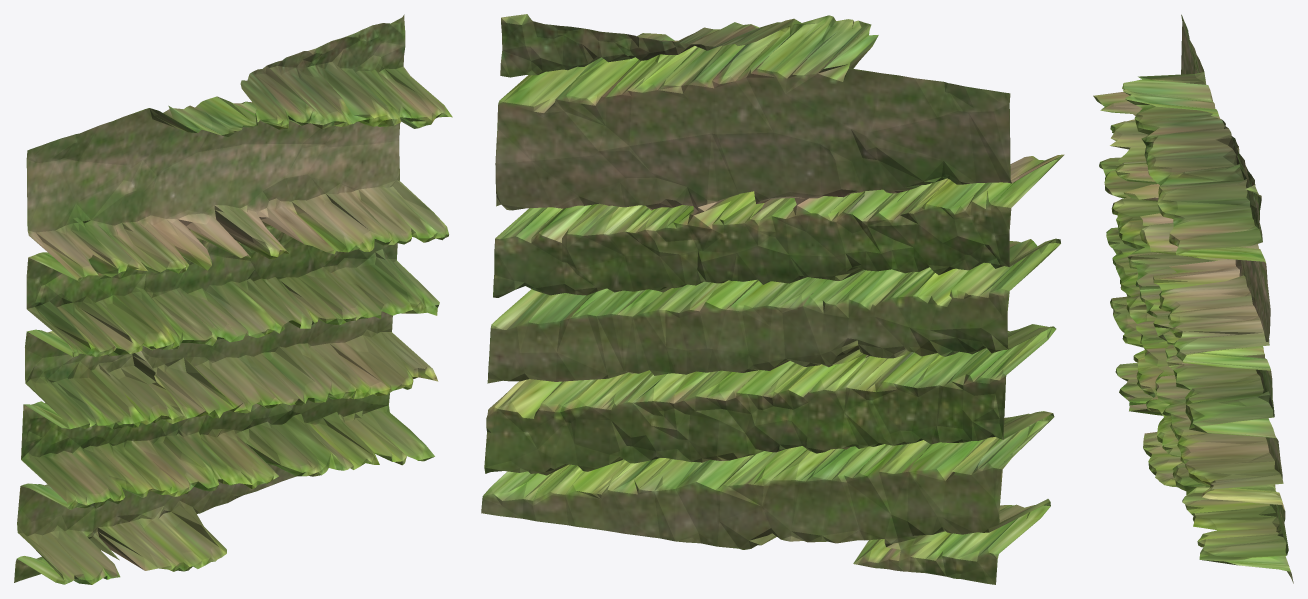
File: map_190_0.obj
The picture shows the model from 3 angles, left to right: view 1: azimuth 30°, elevation 25°; view 2: azimuth 150°, elevation 25°; view 3: azimuth 270°, elevation 25°; orthographic projection. The views are drawn at different scales.
Visible parts, largest first — view 1: grp1; view 2: grp1; view 3: grp1.
Part boxes in pixels (x1=…): grp1: x1=14, y1=14, x2=452, y2=584; grp1: x1=481, y1=14, x2=1064, y2=584; grp1: x1=1093, y1=14, x2=1293, y2=583.
Size of the model in its own units: 10 by 10 by 4.67.
1 material, 1 textured.
